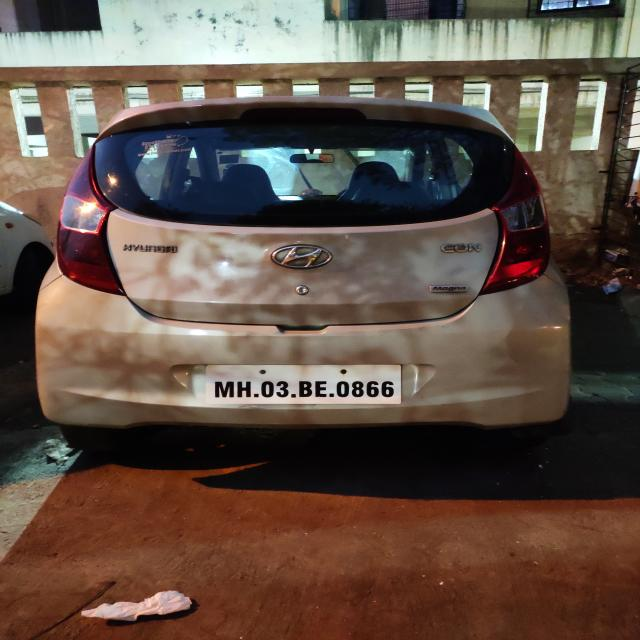Number-Plate: (198, 363, 403, 407)
